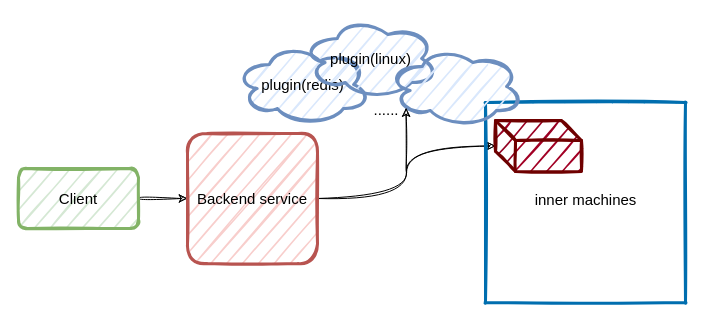
Some shapes in this 704 by 321 pixel diagram are drawn without their labels. Here are the shapes that lost their labels. From the top down, the centre of each, then its label:
At pixel 455 86: "plugin(mysql)".
At pixel 538 145: "plugins".
